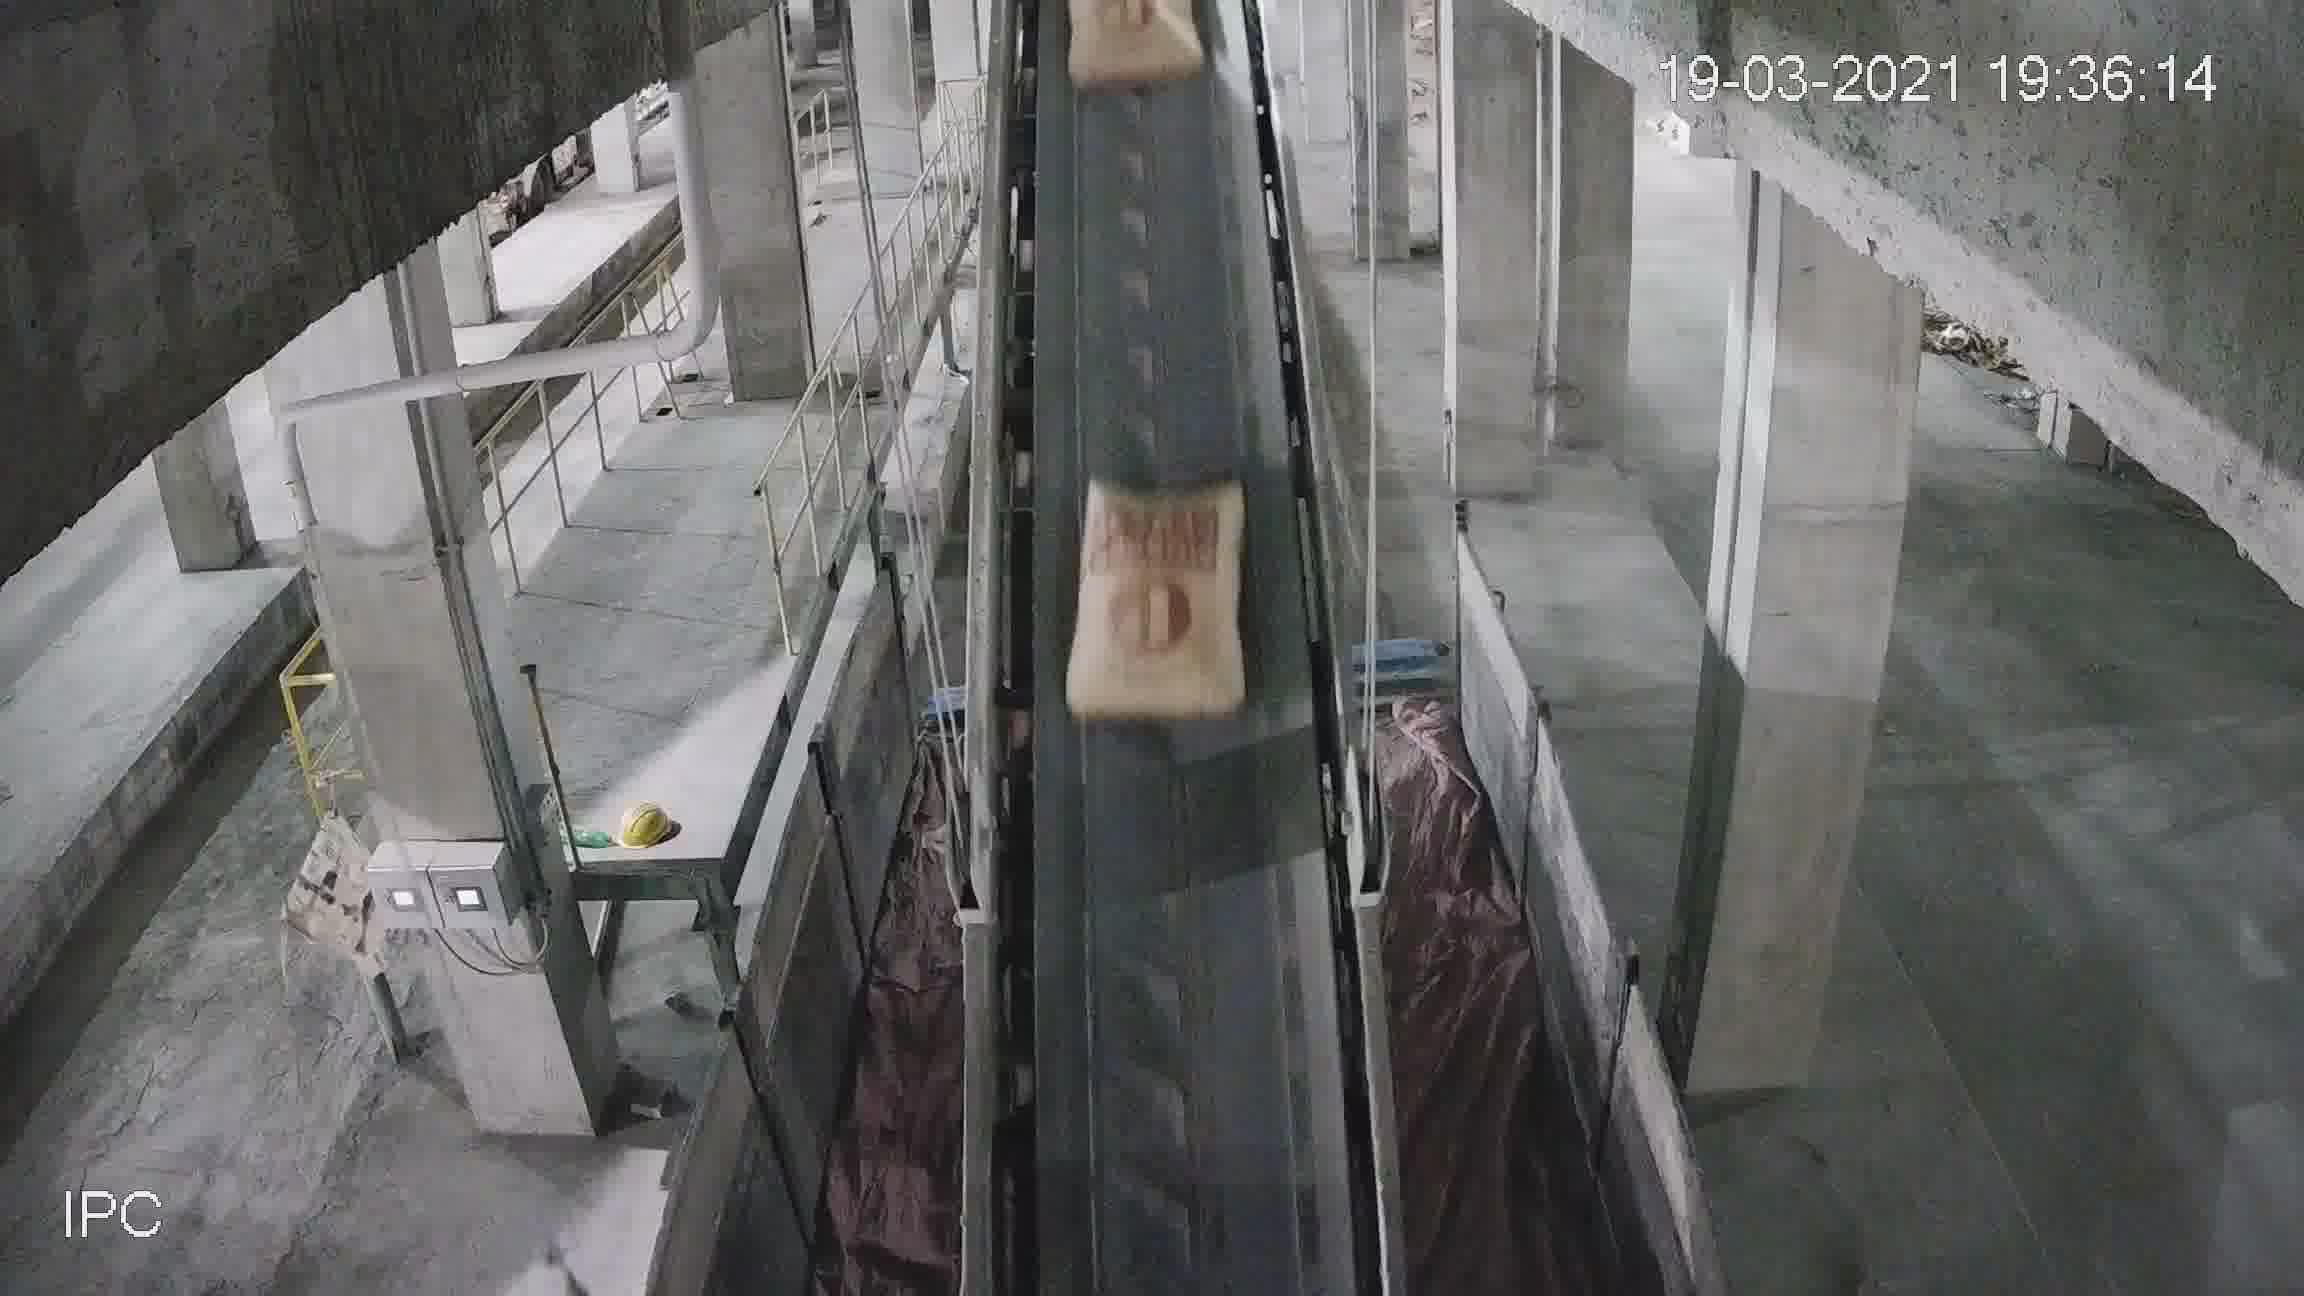bag: (1070, 489, 1249, 725), (1071, 8, 1199, 84)
belt: (967, 24, 1366, 1157)
